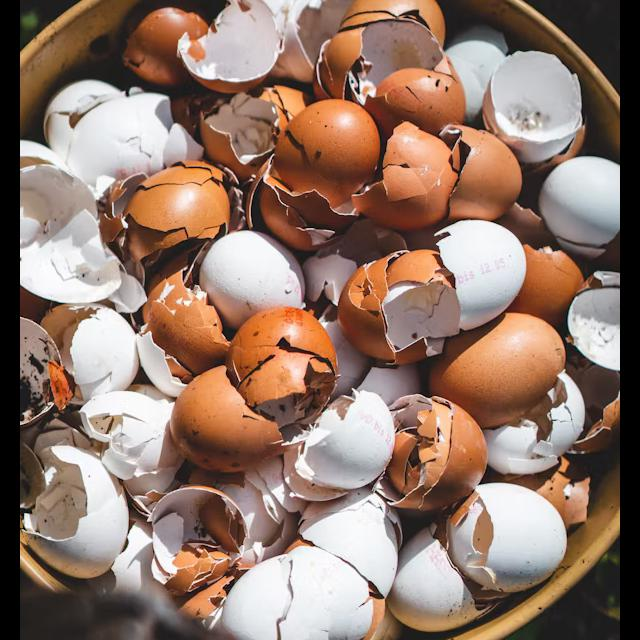food_waste: (415, 300, 576, 436), (100, 109, 235, 256), (22, 159, 137, 313), (176, 0, 321, 121), (326, 0, 455, 134), (433, 204, 548, 339), (293, 382, 419, 503), (226, 543, 377, 640), (148, 489, 263, 616), (235, 289, 343, 419), (477, 34, 584, 162), (447, 477, 572, 579), (168, 362, 291, 465), (72, 359, 175, 480), (33, 414, 121, 555), (435, 107, 539, 222), (505, 144, 617, 250), (395, 377, 479, 516), (275, 109, 387, 201), (480, 367, 581, 469), (377, 542, 484, 636), (120, 22, 235, 105), (555, 242, 620, 376), (47, 294, 139, 380)
